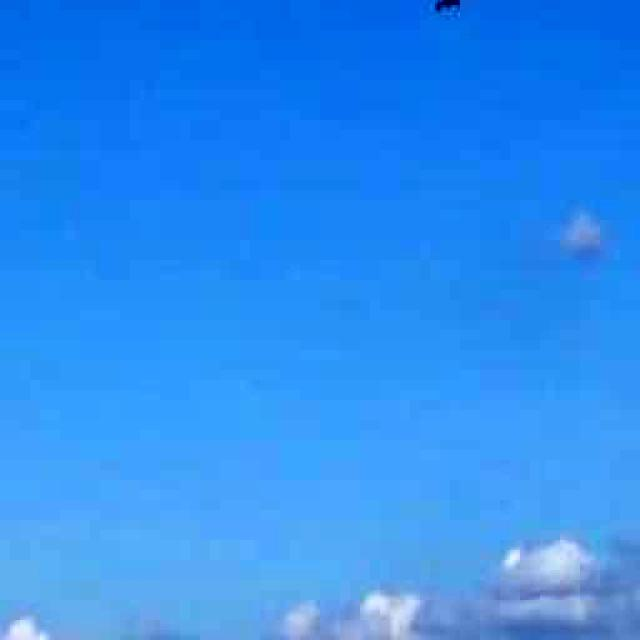bird: (411, 0, 494, 56)
